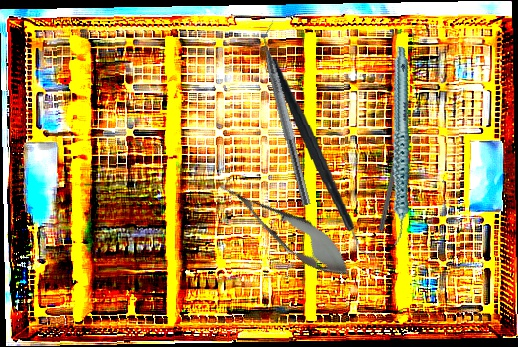Chopper: (268, 51, 379, 267), (253, 19, 324, 207), (378, 93, 420, 234)
Handpiece: (349, 45, 449, 248)
Micro Scissor: (209, 167, 361, 289)
